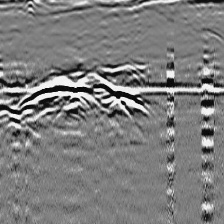cavities: (0, 60, 152, 133)
